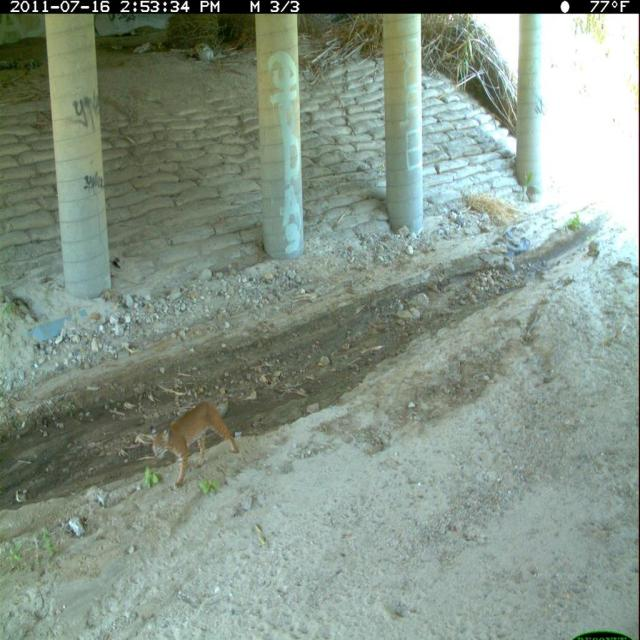bobcat: (147, 396, 243, 494)
